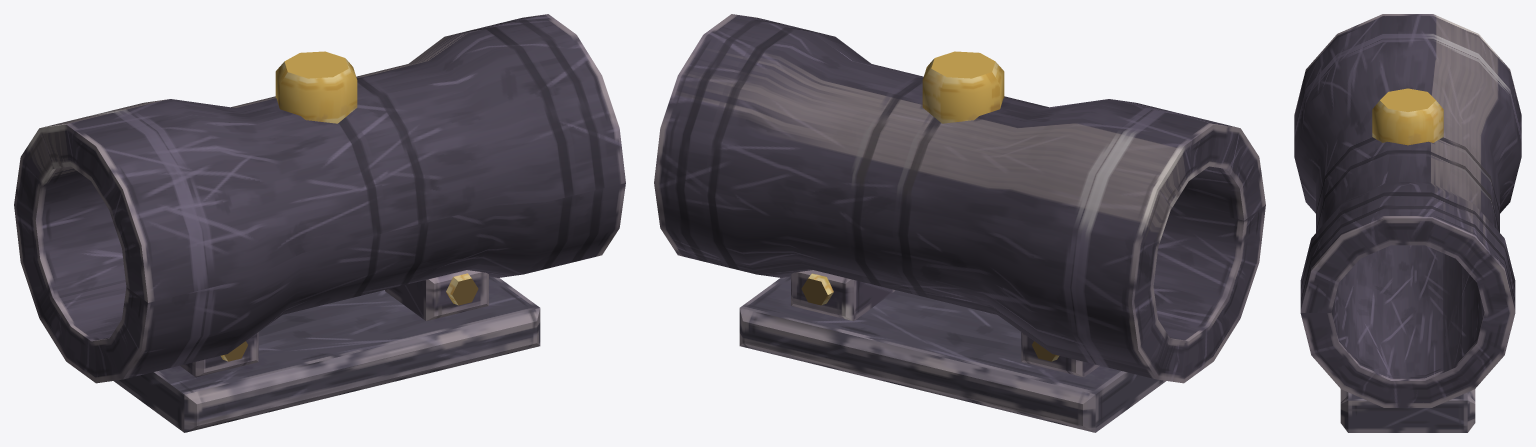
The model's file is att_scope.fbx.
The picture shows the model from 3 angles, left to right: view 1: azimuth 30°, elevation 25°; view 2: azimuth 150°, elevation 25°; view 3: azimuth 270°, elevation 25°; orthographic projection. The views are drawn at different scales.
Visible parts, largest first — view 1: att_scope; view 2: att_scope; view 3: att_scope.
Boxes of the visible parts, x1,y1,x2,y2 form: att_scope: [14, 14, 625, 432]; att_scope: [654, 14, 1265, 432]; att_scope: [1294, 14, 1521, 432].
Size of the model in its own units: 0.345 by 0.2063 by 0.1665.
1 material, 1 textured.
